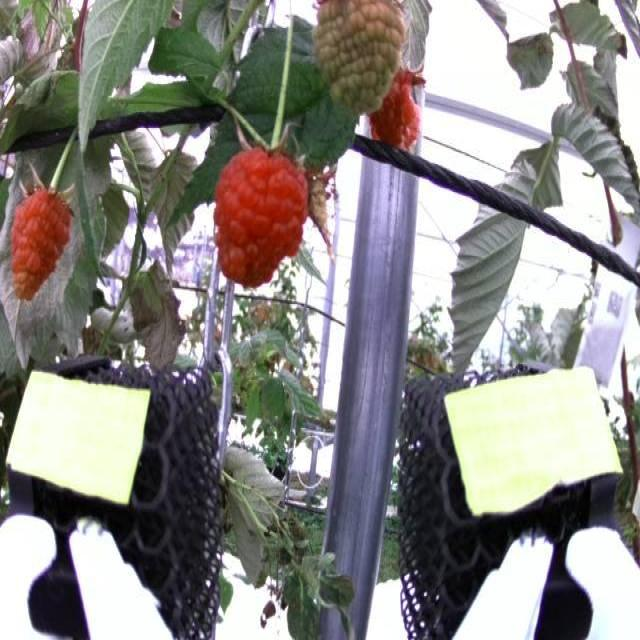Riped berries: (208, 133, 316, 281), (10, 172, 75, 302), (373, 62, 427, 156)
